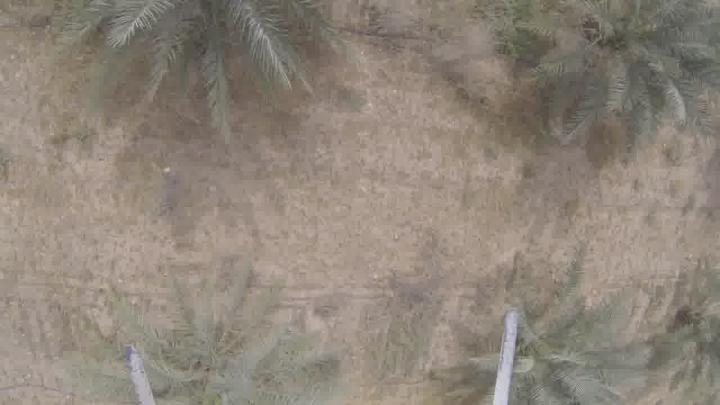Date-Palm-Crown: (536, 0, 719, 116), (98, 0, 302, 88), (106, 315, 296, 405), (468, 313, 636, 405), (666, 274, 720, 380)
